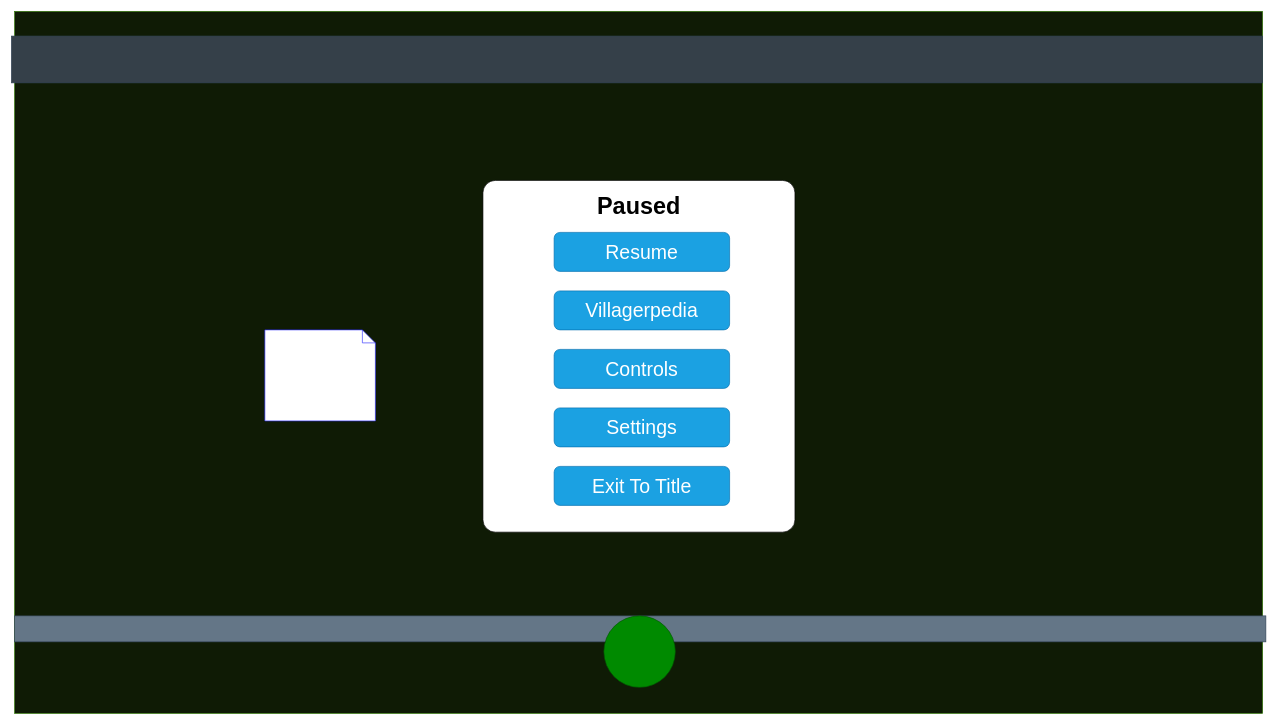
The diagram is 1277 pixels wide and 725 high, and some of its shapes have lost their labels. Here are the shapes that lost their labels. From the top down, the box of each, then its label:
(11, 35, 1263, 83): Castle Wall
(264, 329, 375, 421): Entire game will be blurred, except pause menu
(603, 615, 675, 687): Dragon
